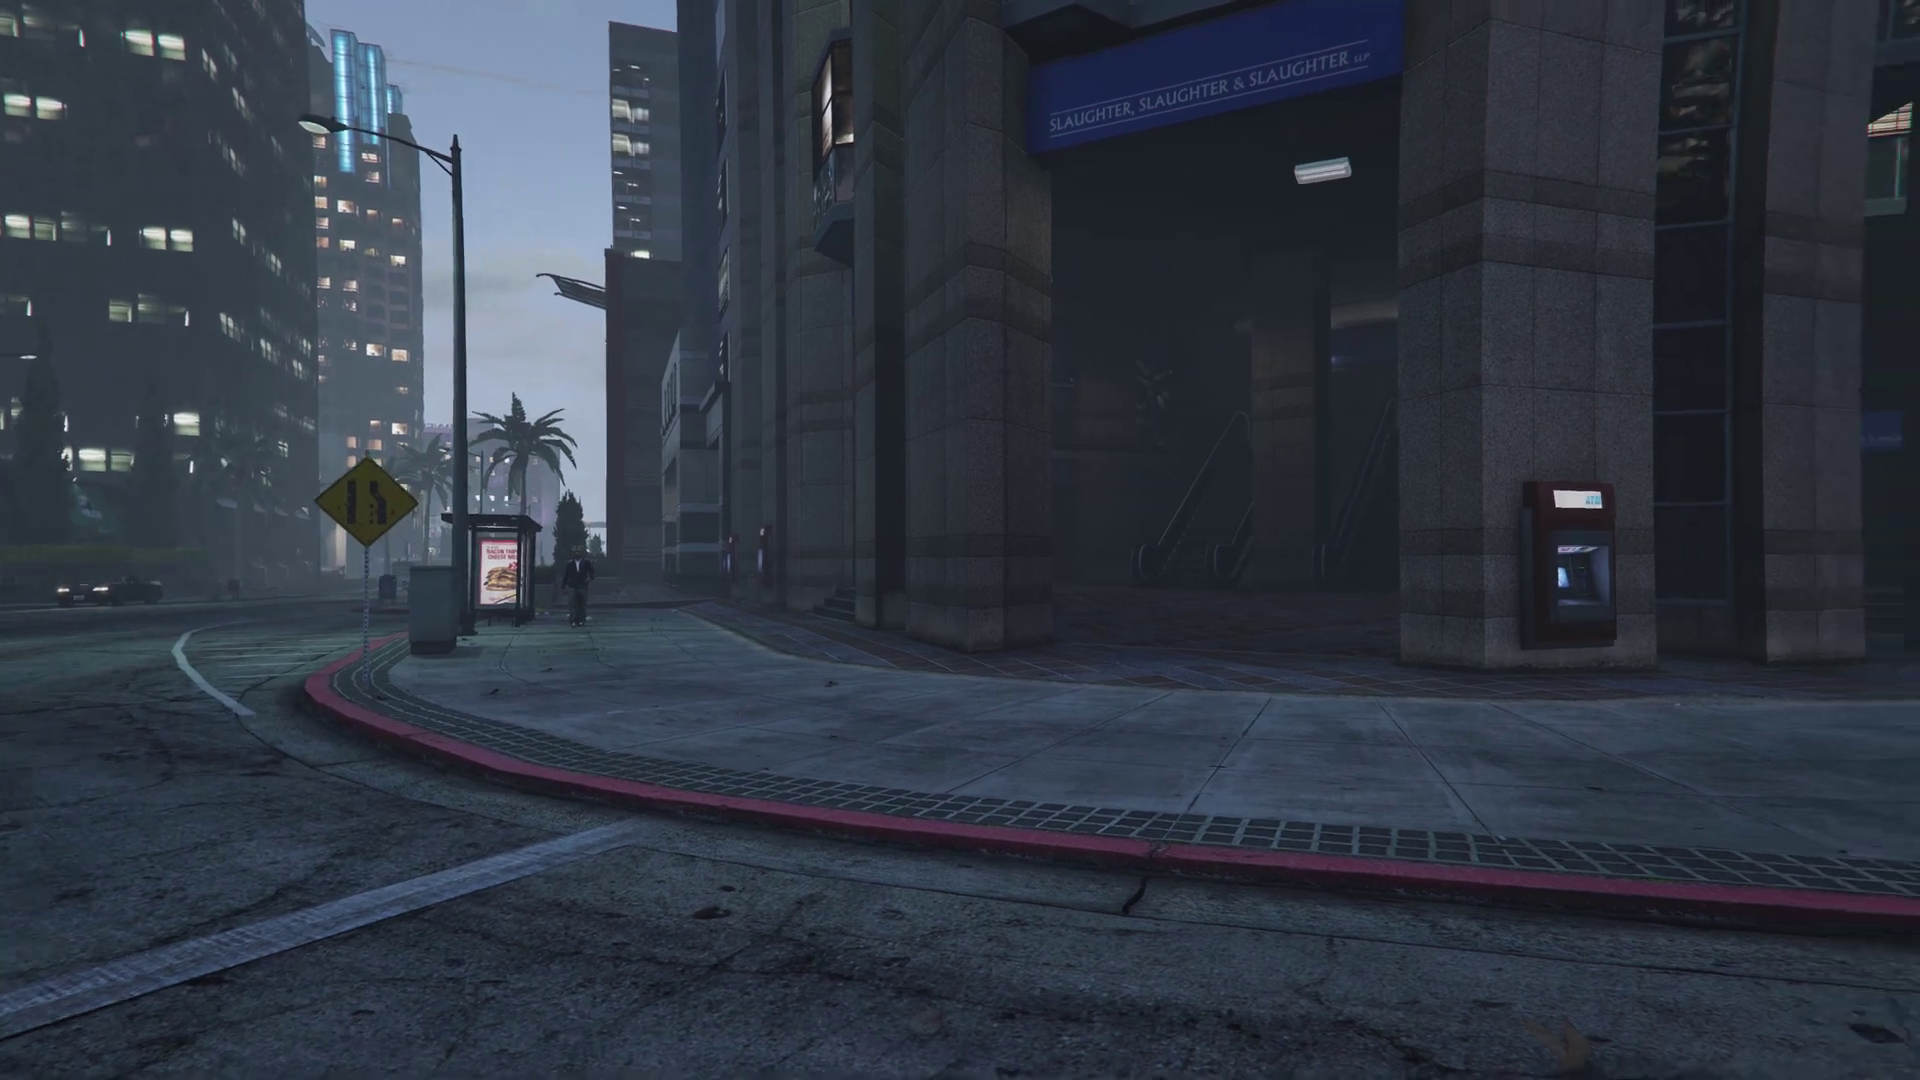car: (53, 576, 167, 606)
person: (562, 548, 593, 625)
